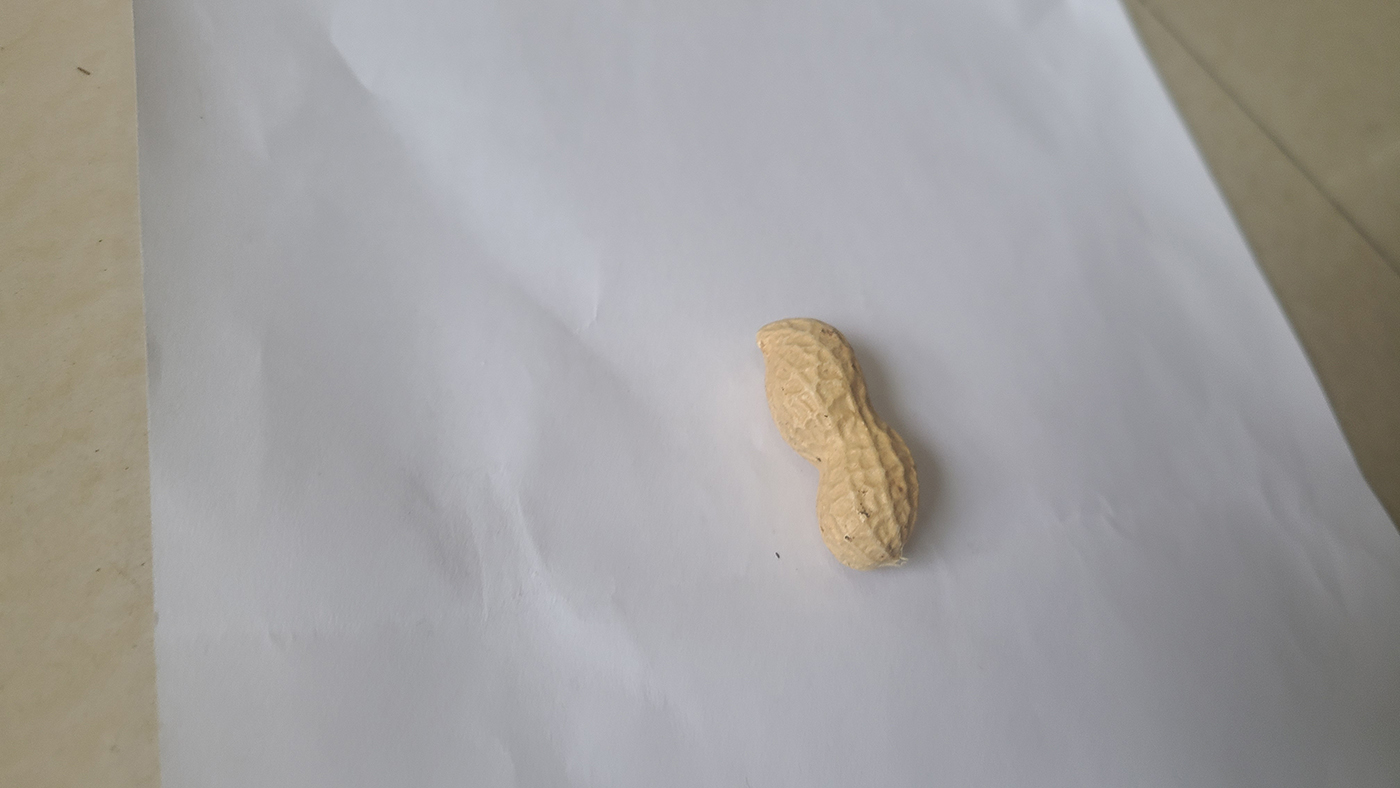h: (757, 317, 922, 572)
